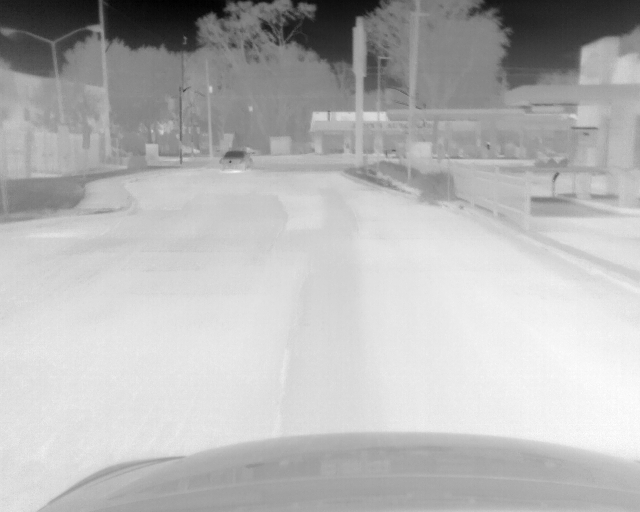car: (218, 150, 253, 173)
